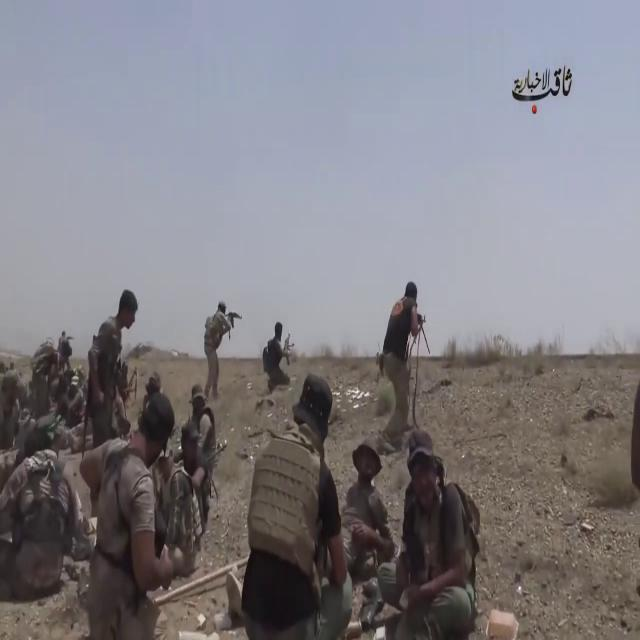long weapon: (75, 326, 102, 469), (282, 326, 296, 368), (227, 308, 245, 328)
